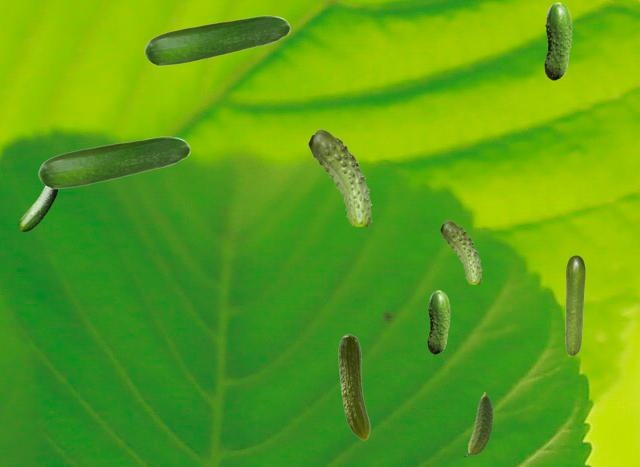cucumber: (38, 136, 189, 188), (144, 15, 289, 65), (308, 129, 371, 225), (338, 334, 369, 439), (440, 220, 481, 283), (544, 2, 571, 79), (565, 255, 584, 355), (464, 392, 492, 455), (18, 186, 56, 230), (427, 290, 449, 353)
